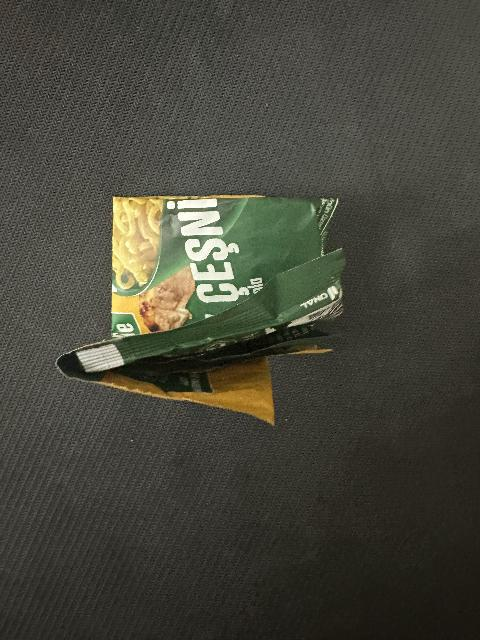Plastik: (57, 192, 351, 416)
